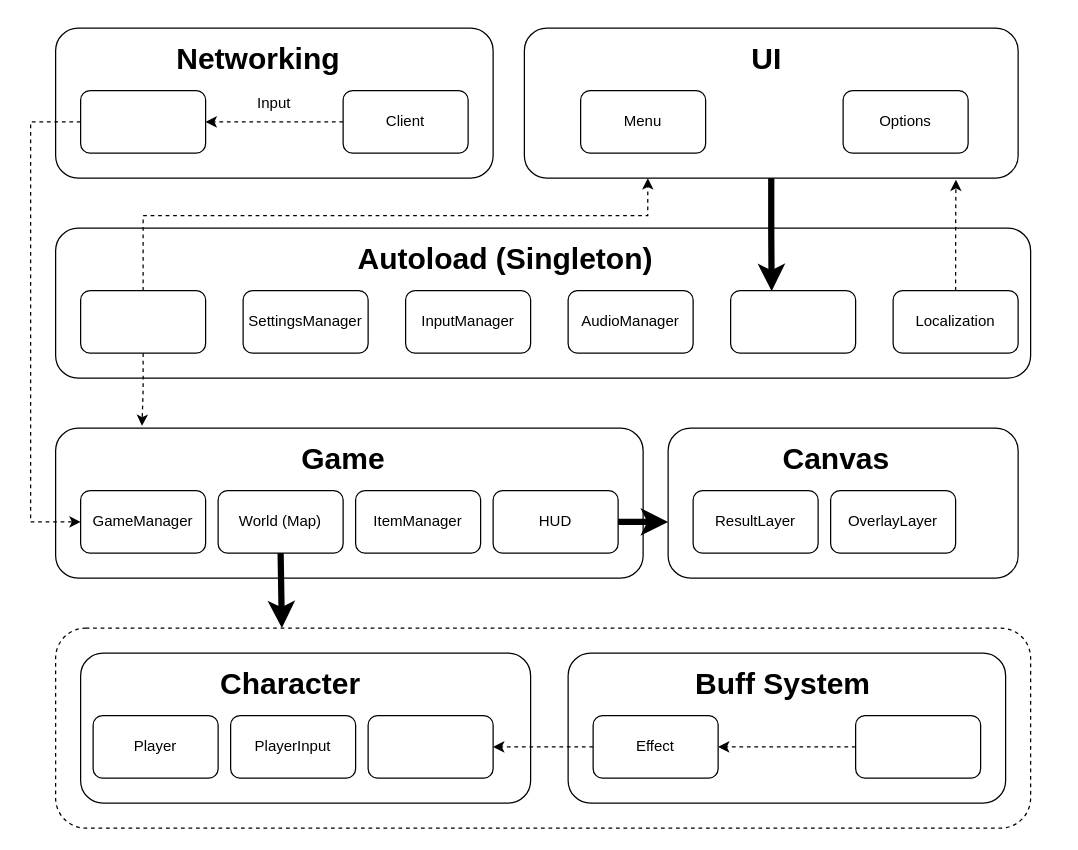
Image size: 1078x850. Some labels were removed from this diagram. Each missing label, with the centre of its shape:
EffectManager: the point at 430,746
EventBus: the point at 142,321
GameData: the point at 792,321
Item: the point at 917,746
NetworkManager: the point at 142,121
